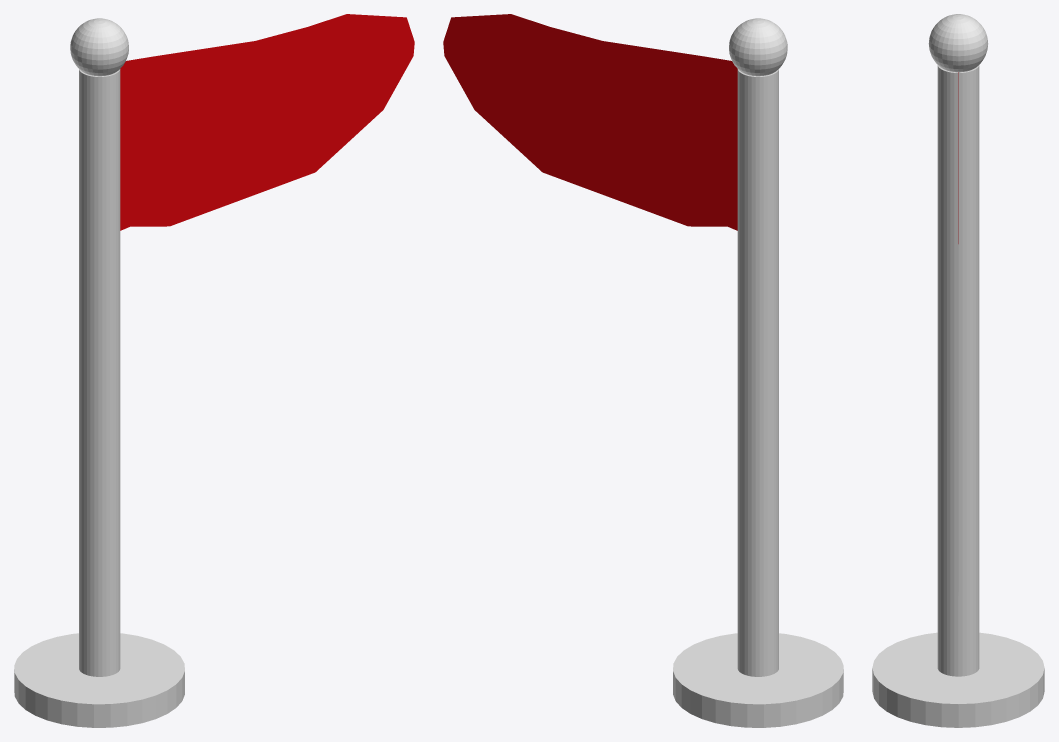
File: point.fbx
3 views of the same model, side by side, from view 1: azimuth 30°, elevation 25°; view 2: azimuth 150°, elevation 25°; view 3: azimuth 270°, elevation 25° (orthographic).
Parts seen in each view (by area): view 1: 円柱.001, 円柱; view 2: 円柱.001, 円柱; view 3: 円柱.001, 円柱.
Boxes of the visible parts, x1,y1,x2,y2 form: 円柱.001: (70,14,414,676); 円柱: (14,633,184,727); 円柱.001: (443,14,787,676); 円柱: (673,633,843,727); 円柱.001: (928,14,988,676); 円柱: (872,632,1044,727).
Size of the model in its own units: 66.93 by 110 by 25.5.
